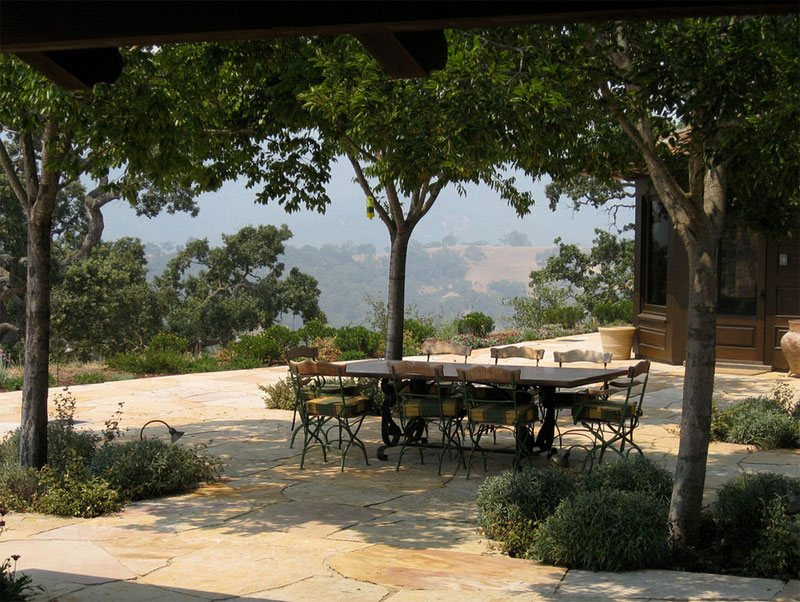tree: (549, 9, 788, 550), (1, 42, 270, 472), (276, 34, 543, 426)
